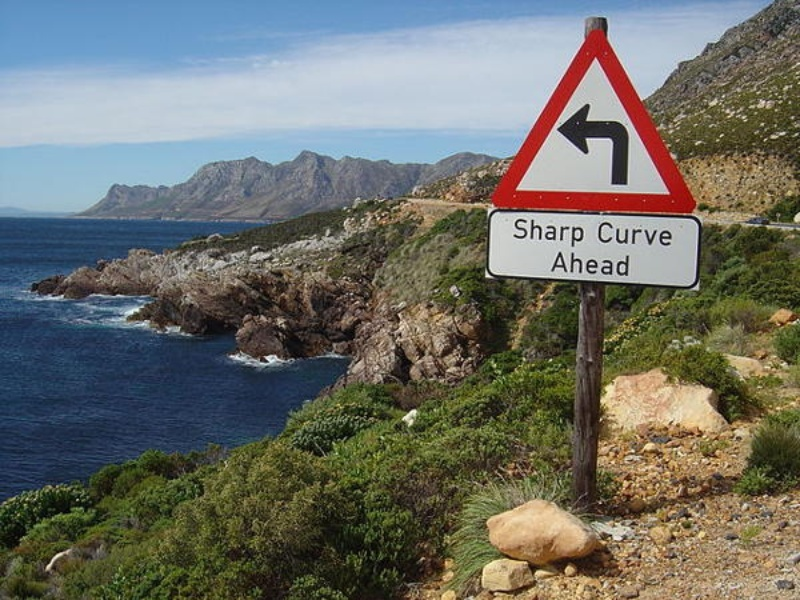text: (513, 217, 528, 249), (529, 217, 544, 249), (545, 217, 560, 249), (561, 217, 576, 249), (561, 250, 576, 278), (577, 250, 592, 278), (593, 250, 608, 278), (609, 250, 624, 278), (609, 220, 624, 247), (625, 220, 640, 247), (641, 220, 656, 247), (657, 220, 672, 247), (598, 220, 608, 247), (577, 217, 585, 249), (625, 250, 630, 278), (557, 250, 560, 278), (511, 217, 512, 249), (673, 220, 674, 247)
